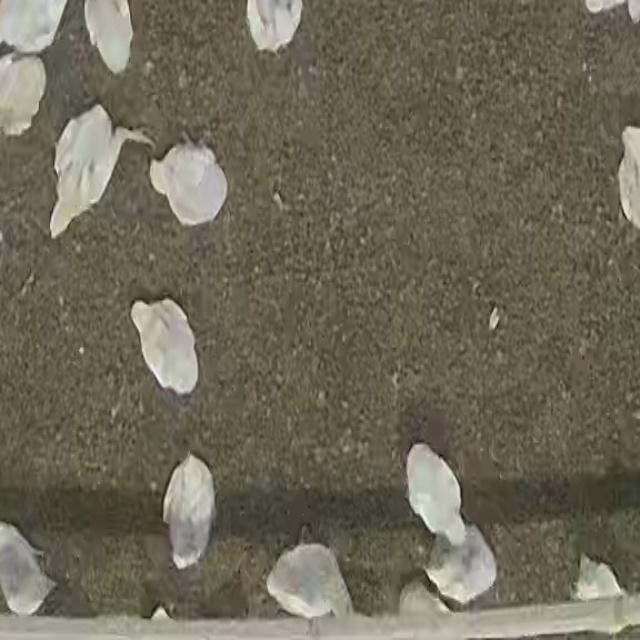chicken: (49, 106, 142, 236), (265, 535, 355, 624), (130, 298, 198, 402), (149, 139, 227, 228), (404, 442, 468, 549), (424, 522, 499, 608), (162, 453, 216, 571), (0, 520, 55, 615), (0, 53, 48, 137), (83, 2, 134, 78), (0, 0, 70, 55), (244, 1, 302, 54), (571, 552, 625, 602), (617, 126, 640, 232)
